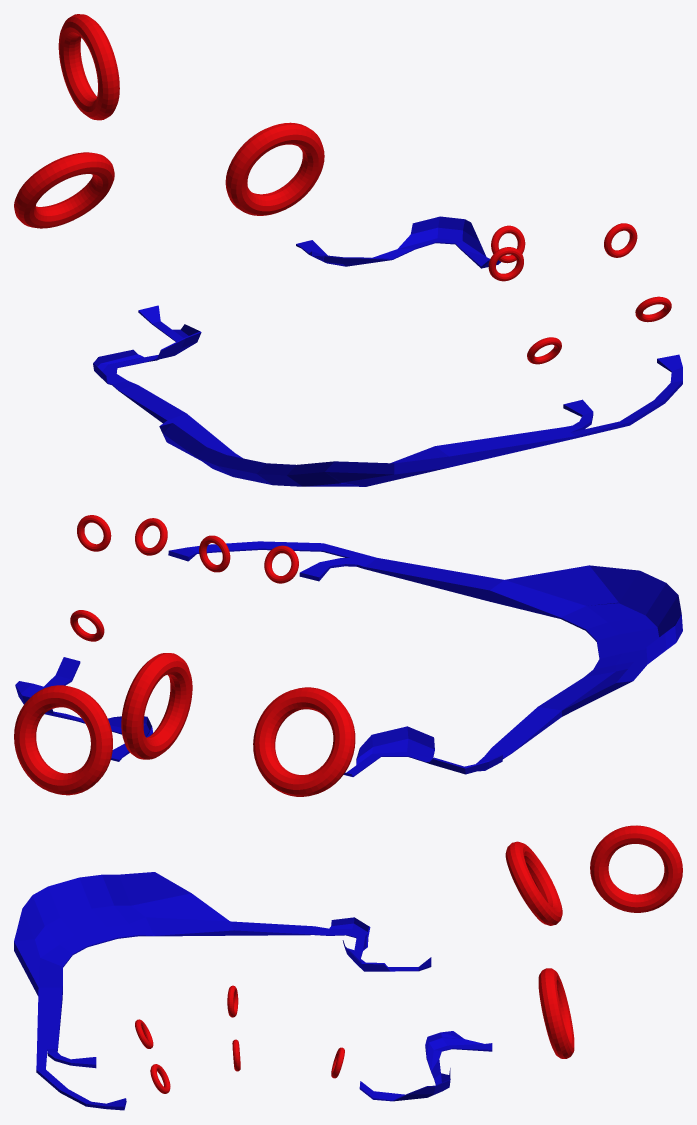
File: track but for unreal and all joined.fbx
3 views of the same model, one above another, from view 1: azimuth 30°, elevation 25°; view 2: azimuth 150°, elevation 25°; view 3: azimuth 270°, elevation 25° (orthographic). The views are drawn at different scales.
Parts seen in each view (by area): view 1: section 2; view 2: section 2; view 3: section 2.
Boxes of the visible parts, x1,y1,x2,y2 form: section 2: [14, 14, 682, 486]; section 2: [14, 515, 682, 796]; section 2: [14, 825, 682, 1110].
Bounding box in the file's own units: 40991 × 15080 × 53856.
